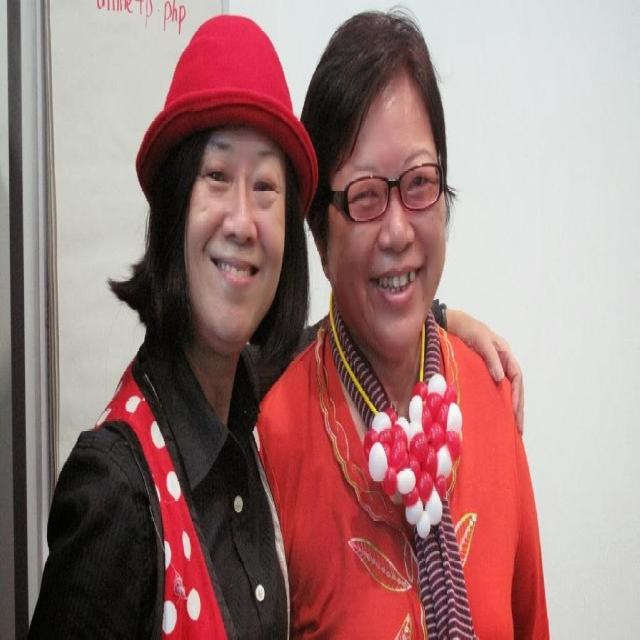Face: (318, 38, 457, 345), (187, 104, 287, 359)
